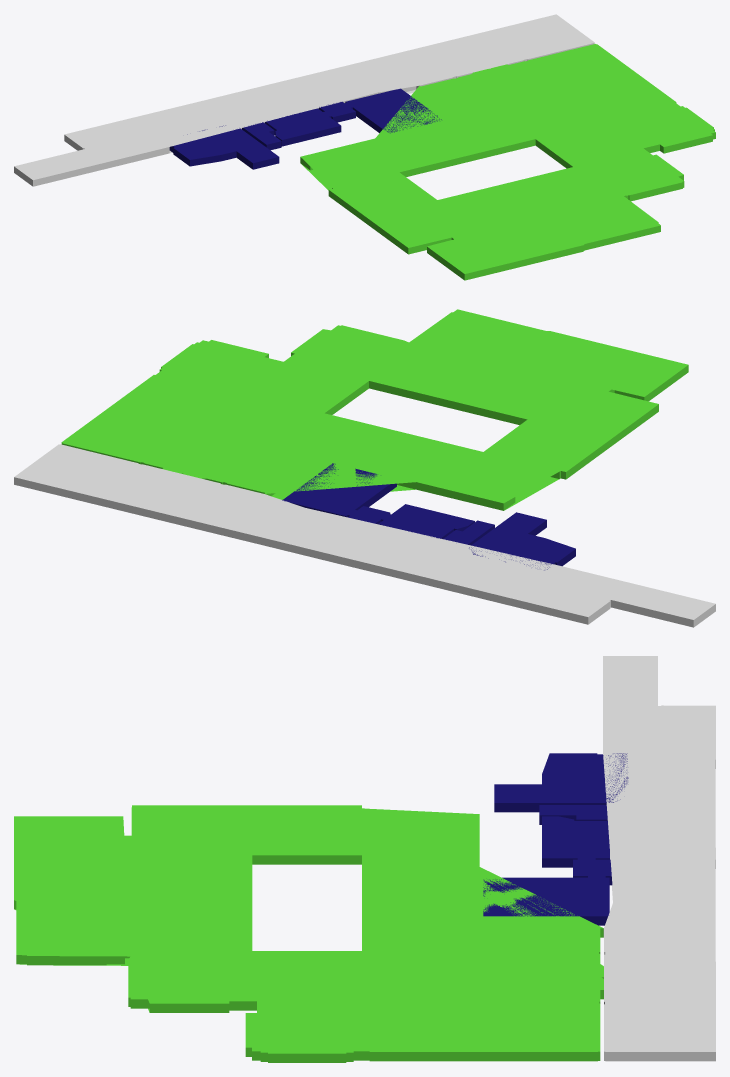
Rendered from RecSecondFloorNoWallB.fbx.
3 renders of one model, top to bottom at view 1: azimuth 30°, elevation 25°; view 2: azimuth 150°, elevation 25°; view 3: azimuth 270°, elevation 25°, orthographic. The views are drawn at different scales.
Parts seen in each view (by area): view 1: Cube; view 2: Cube; view 3: Cube.
Part boxes in pixels (x1=…): Cube: x1=14, y1=14, x2=715, y2=280; Cube: x1=14, y1=309, x2=715, y2=627; Cube: x1=14, y1=656, x2=715, y2=1062.
Bounding box in the file's own units: 16768 × 184 × 12512.
